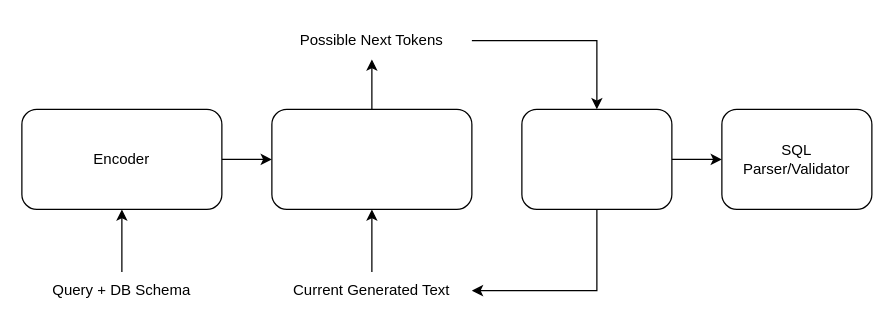
Image size: 894x330. Some labels were removed from this diagram. The shapes that lost their labels are listed below. From the top down, each one's box as (x1, y1, x2, y2) in pixels, then its label:
(271, 108, 472, 209): Decoder
(521, 108, 672, 209): Logits Processor
